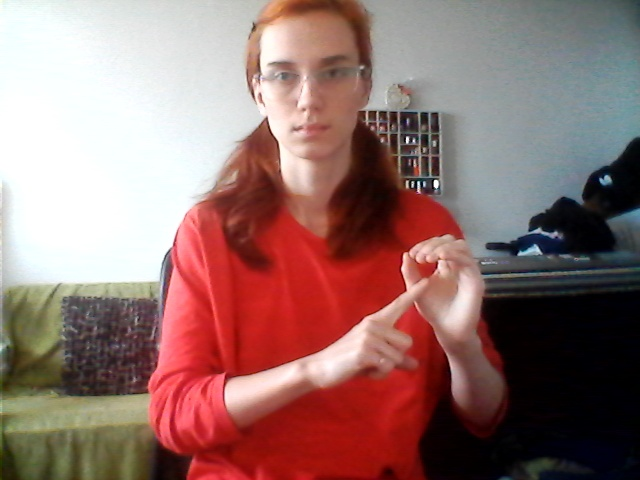q: (340, 228, 494, 393)
